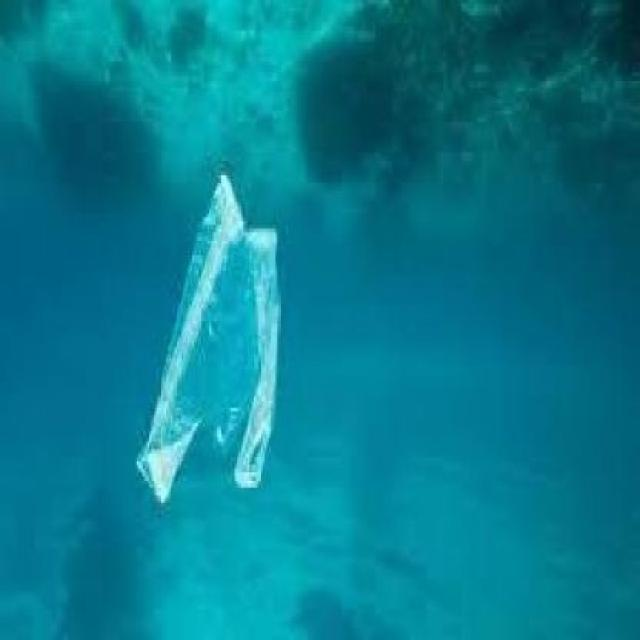pbag: (136, 172, 282, 510)
